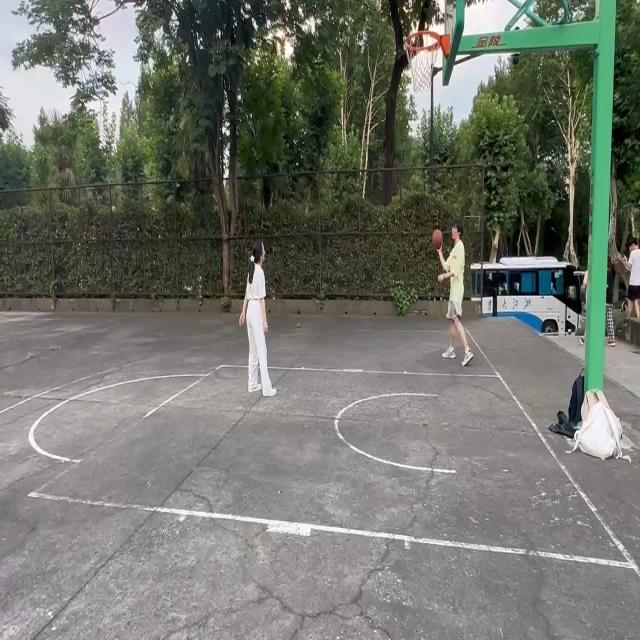basketball: (406, 34, 454, 96)
rim: (432, 230, 442, 249)
